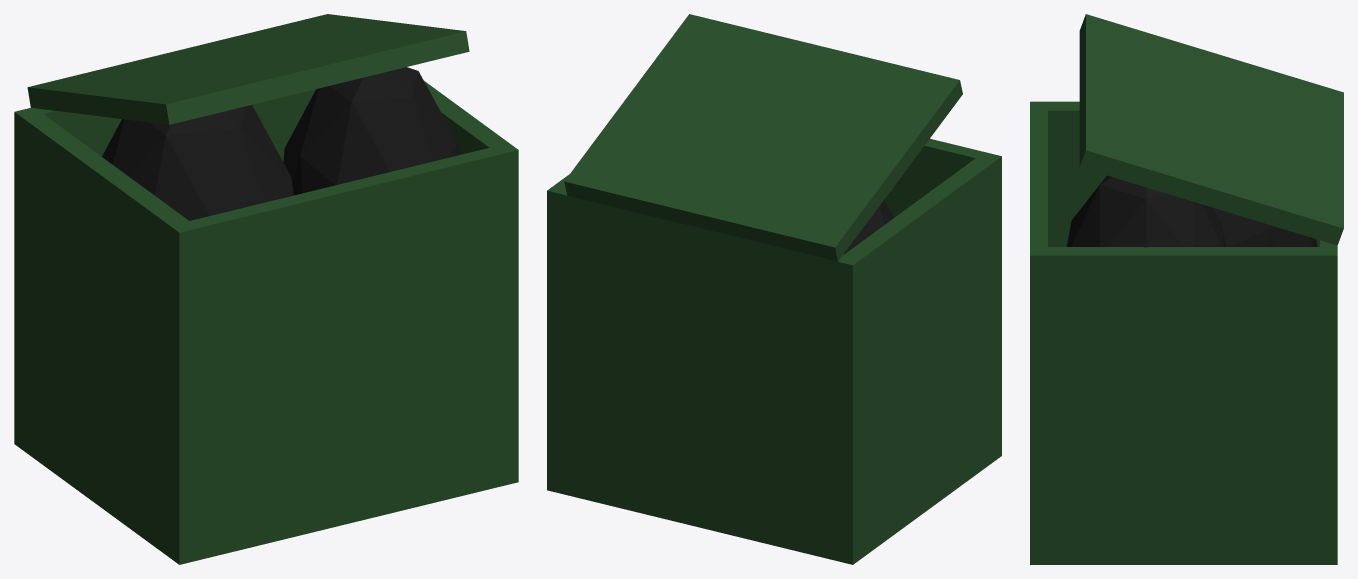
The model's file is GarbageGreen.fbx.
The picture shows the model from 3 angles, left to right: view 1: azimuth 30°, elevation 25°; view 2: azimuth 150°, elevation 25°; view 3: azimuth 270°, elevation 25°; orthographic projection. The views are drawn at different scales.
Visible parts, largest first — view 1: Cube.051, Cube.052, Icosphere.003, Icosphere.002; view 2: Cube.051, Cube.052, Icosphere.002; view 3: Cube.051, Cube.052, Icosphere.003, Icosphere.002.
Boxes of the visible parts, bbox=[...] form: Cube.051: bbox=[14, 81, 518, 564]; Cube.052: bbox=[27, 14, 469, 124]; Icosphere.003: bbox=[283, 67, 459, 195]; Icosphere.002: bbox=[102, 105, 293, 220]; Cube.051: bbox=[547, 138, 1001, 564]; Cube.052: bbox=[564, 14, 962, 261]; Icosphere.002: bbox=[843, 200, 893, 254]; Cube.051: bbox=[1030, 101, 1337, 564]; Cube.052: bbox=[1079, 14, 1343, 245]; Icosphere.003: bbox=[1066, 175, 1225, 247]; Icosphere.002: bbox=[1211, 207, 1317, 246].
Bounding box in the file's own units: 3.2 × 4.28 × 2.76.
